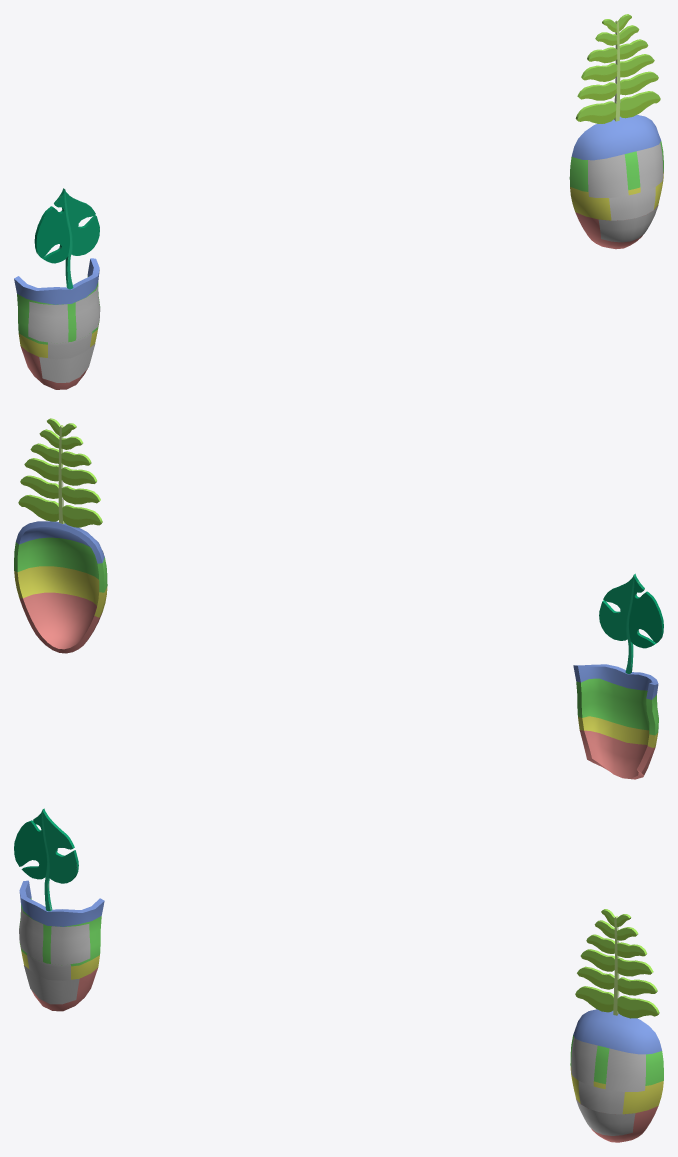
File: Masks_Batch2_and_Leaves.fbx
3 views of the same model, one above another, from view 1: azimuth 30°, elevation 25°; view 2: azimuth 150°, elevation 25°; view 3: azimuth 330°, elevation 25° (orthographic).
Visible parts, largest first — view 1: OvalMask, Fern, TheatreMask, TropicalLeaf, OvalMask_Eyes, TheatreMask_Eyes, TheatreMask_Mouth, OvalMask_Mouth, OvalMask_Nose, TheatreMask_Nose; view 2: OvalMask, TheatreMask, Fern, TropicalLeaf; view 3: OvalMask, Fern, TheatreMask, TropicalLeaf, OvalMask_Eyes, TheatreMask_Eyes, TheatreMask_Mouth, OvalMask_Mouth, OvalMask_Nose, TheatreMask_Nose.
Part boxes in pixels (box(x1,y1,x2,y2)): OvalMask: box(569, 115, 663, 249); Fern: box(575, 14, 660, 123); TheatreMask: box(14, 258, 100, 389); TropicalLeaf: box(34, 188, 99, 289); OvalMask_Eyes: box(588, 143, 663, 197); TheatreMask_Eyes: box(28, 286, 100, 343); TheatreMask_Mouth: box(39, 344, 95, 382); OvalMask_Mouth: box(598, 205, 658, 242); OvalMask_Nose: box(609, 187, 655, 220); TheatreMask_Nose: box(48, 332, 92, 359); OvalMask: box(14, 521, 107, 653); TheatreMask: box(573, 664, 658, 779); Fern: box(18, 418, 102, 527); TropicalLeaf: box(599, 573, 663, 673); OvalMask: box(570, 1009, 663, 1142); Fern: box(575, 909, 659, 1018); TheatreMask: box(19, 880, 104, 1011); TropicalLeaf: box(14, 808, 78, 911); OvalMask_Eyes: box(571, 1037, 645, 1091); TheatreMask_Eyes: box(19, 908, 90, 965); TheatreMask_Mouth: box(24, 965, 79, 1004); OvalMask_Mouth: box(576, 1099, 635, 1135); OvalMask_Nose: box(578, 1081, 624, 1114); TheatreMask_Nose: box(27, 954, 70, 980).
Bounding box in the file's own units: 125 × 42.95 × 7.3.
